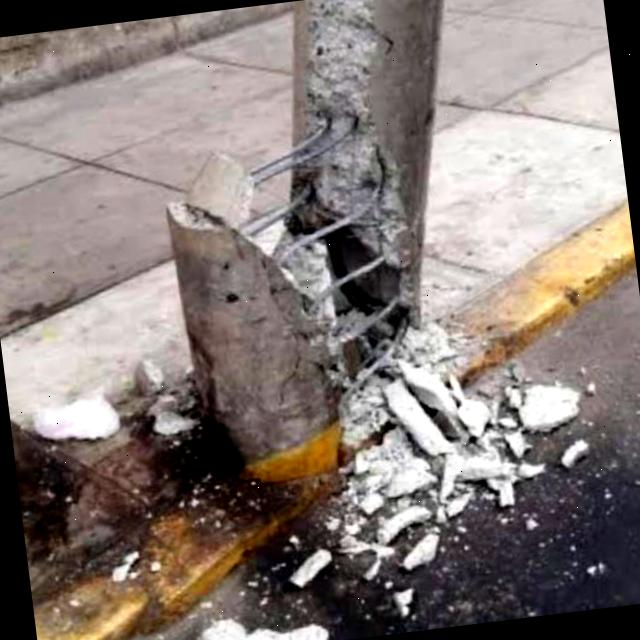Broken Pole: (166, 0, 566, 539)
